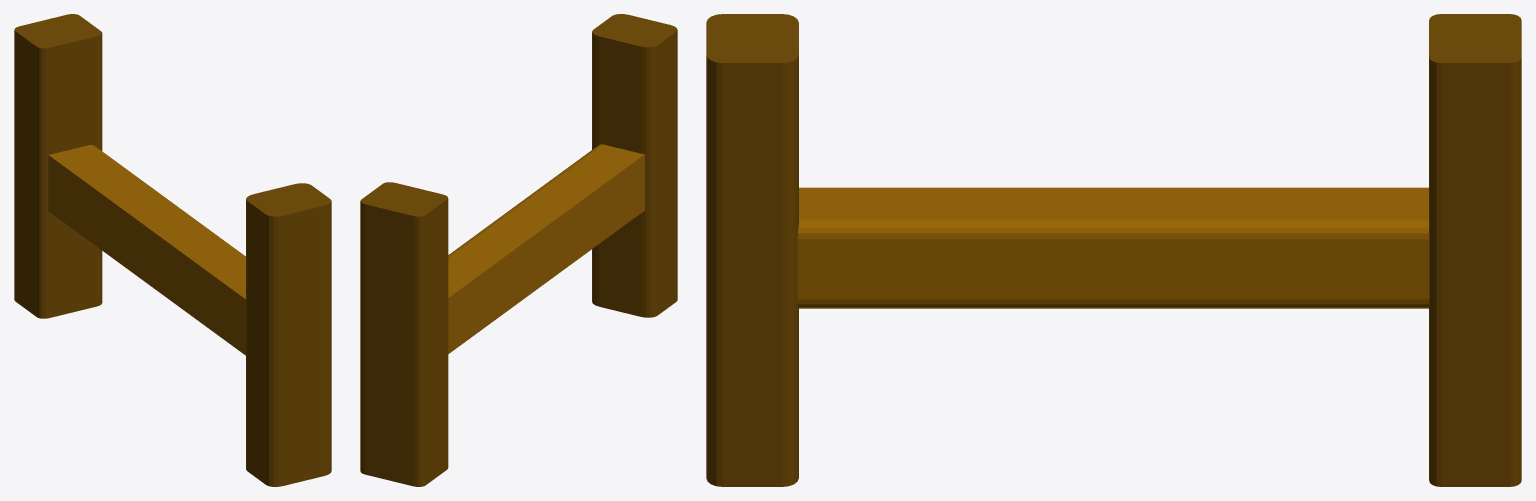
File: VerticalStairsElement.fbx
The picture shows the model from 3 angles, left to right: view 1: azimuth 30°, elevation 25°; view 2: azimuth 150°, elevation 25°; view 3: azimuth 270°, elevation 25°; orthographic projection. The views are drawn at different scales.
Visible parts, largest first — view 1: Cube.002; view 2: Cube.002; view 3: Cube.002.
Boxes of the visible parts, x1,y1,x2,y2 form: Cube.002: (14,14,331,486); Cube.002: (360,14,677,486); Cube.002: (706,14,1521,486).
Size of the model in its own units: 9.65 by 38.82 by 67.68.
